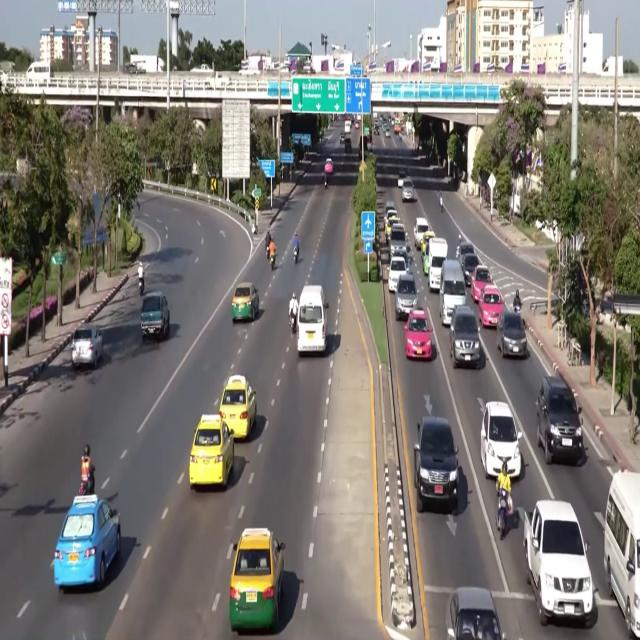car: (54, 495, 120, 589), (229, 528, 284, 631), (414, 416, 458, 512), (537, 376, 584, 463), (189, 415, 234, 488), (481, 401, 522, 478), (445, 587, 505, 639), (219, 375, 256, 439), (450, 305, 480, 367), (497, 306, 527, 357), (141, 291, 170, 342), (71, 326, 103, 368), (405, 310, 432, 359), (478, 285, 504, 327), (232, 282, 259, 322), (395, 273, 417, 319), (471, 264, 492, 302), (388, 256, 408, 292), (459, 254, 480, 287), (421, 232, 435, 275), (389, 224, 407, 256), (414, 217, 429, 249), (385, 209, 400, 239), (394, 248, 411, 271), (421, 230, 435, 255), (456, 241, 475, 258), (402, 178, 415, 202), (384, 200, 396, 218), (398, 168, 406, 188), (324, 159, 333, 174), (0, 70, 8, 86), (344, 138, 351, 153), (339, 133, 345, 144), (374, 125, 379, 135), (385, 128, 390, 137), (354, 121, 359, 129)
scooty: (497, 489, 509, 539), (79, 476, 94, 495), (138, 277, 144, 296), (289, 314, 295, 333), (513, 303, 521, 314), (270, 254, 275, 271), (294, 248, 298, 263), (324, 176, 327, 188)
truck: (523, 500, 596, 628), (425, 238, 447, 292), (129, 55, 164, 73), (344, 120, 350, 135)
